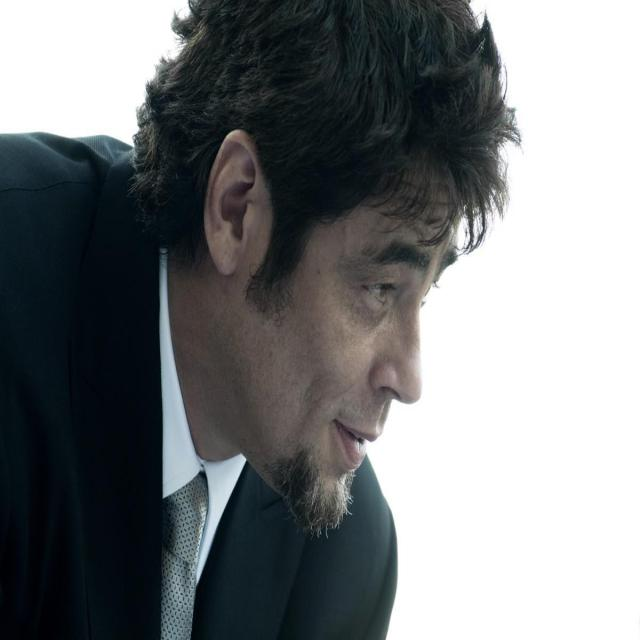no-earmuff: (191, 110, 276, 287)
